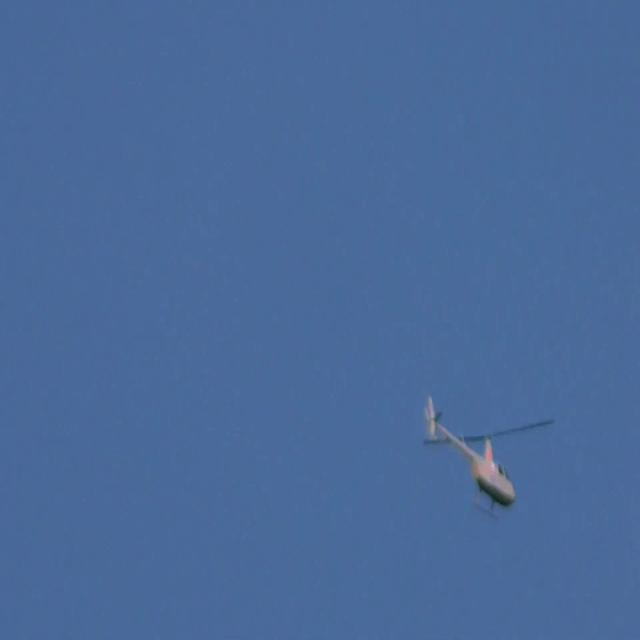CIV_HELO: (424, 395, 515, 520)
